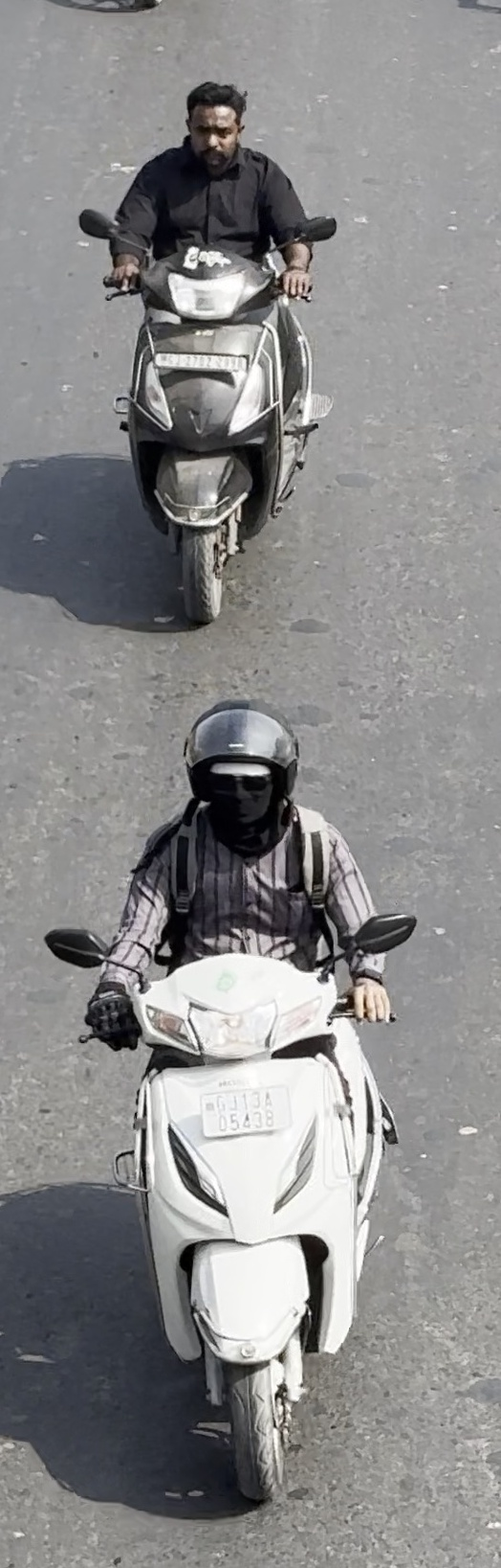BikeWithRider: (34, 692, 427, 1516), (65, 71, 350, 634)
Helmet: (165, 690, 315, 866)
NoHelmet: (168, 72, 261, 176)
